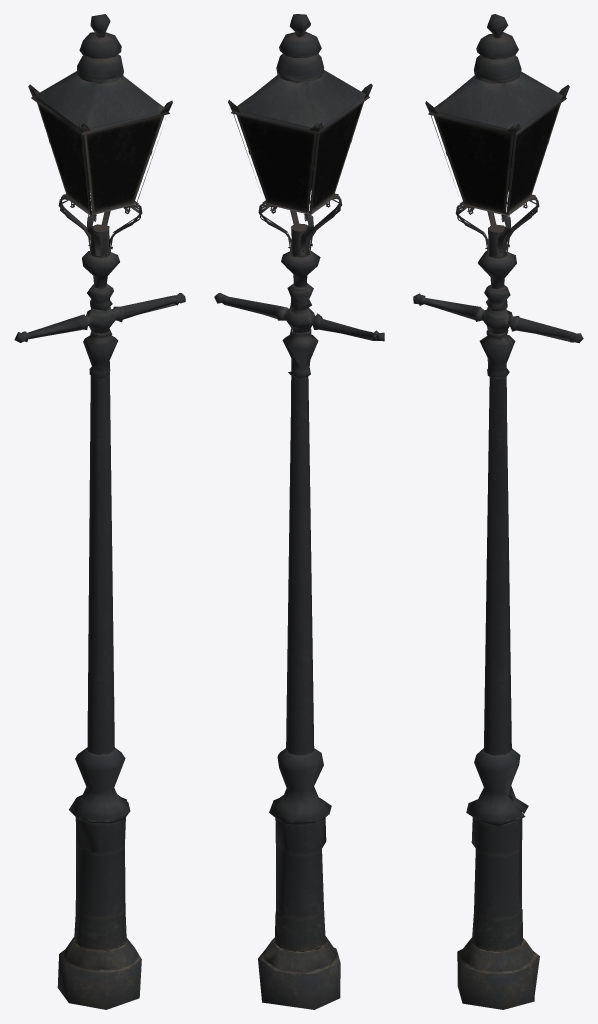
Rendered from street_lamp_01.glb.
3 views of the same model, side by side, from view 1: azimuth 30°, elevation 25°; view 2: azimuth 150°, elevation 25°; view 3: azimuth 330°, elevation 25° (orthographic).
Parts seen in each view (by area): view 1: street_lamp_01; view 2: street_lamp_01; view 3: street_lamp_01.
Boxes of the visible parts, x1,y1,x2,y2 form: street_lamp_01: (14,14,185,1009); street_lamp_01: (214,14,384,1009); street_lamp_01: (413,14,583,1009).
Size of the model in its own units: 0.7074 by 3.87 by 0.3838.
Materials: 3 (3 with a texture image).
